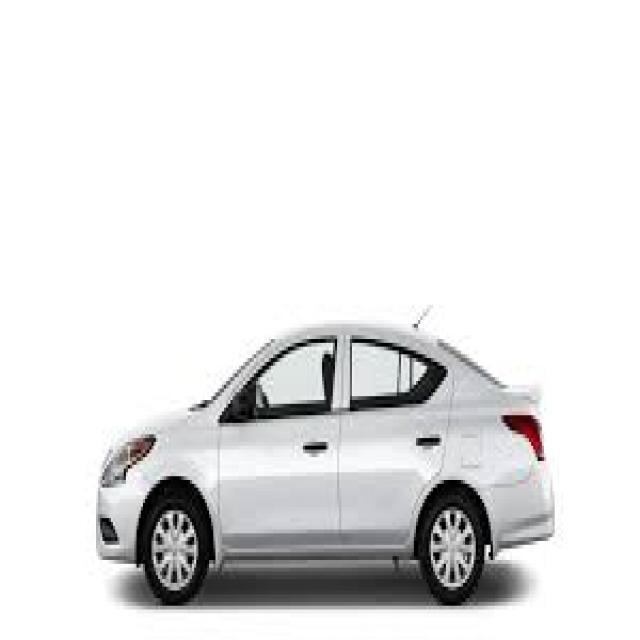Car: (92, 299, 556, 601)
